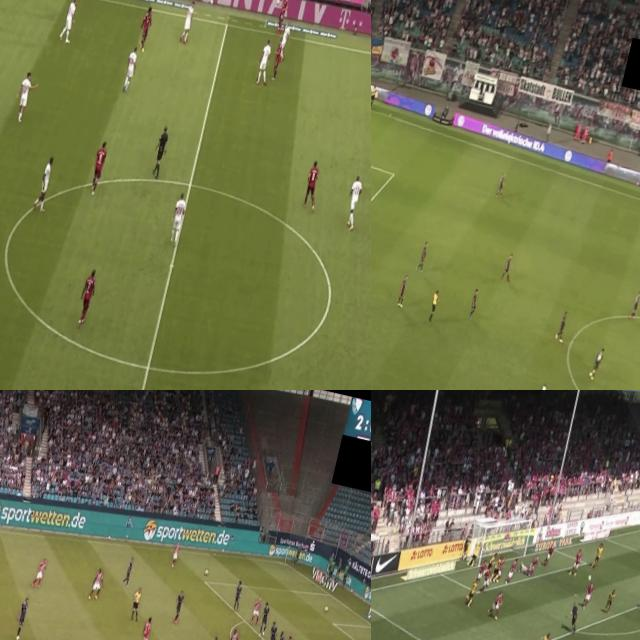ball: (584, 571, 592, 582), (274, 0, 282, 8), (588, 369, 594, 379), (324, 604, 329, 614), (204, 568, 209, 574)
player: (75, 262, 100, 324), (300, 153, 326, 210), (33, 154, 56, 213), (87, 138, 110, 196), (342, 171, 364, 231), (167, 190, 189, 248), (14, 70, 36, 121), (136, 5, 157, 54), (122, 42, 142, 92), (267, 32, 286, 83), (58, 0, 80, 42), (256, 34, 274, 82), (177, 0, 197, 41), (13, 598, 29, 640), (414, 237, 431, 274), (488, 590, 507, 623), (555, 308, 571, 347), (462, 576, 480, 610), (395, 270, 411, 308), (273, 0, 293, 29), (88, 568, 105, 602), (590, 344, 606, 376), (258, 599, 272, 635), (32, 556, 48, 587), (580, 580, 596, 610), (172, 590, 186, 622), (470, 538, 484, 570), (526, 552, 542, 580), (468, 284, 480, 318), (137, 616, 154, 640), (568, 547, 582, 576), (502, 249, 515, 280), (231, 580, 244, 611), (480, 563, 493, 594), (250, 596, 264, 624), (124, 556, 136, 586), (494, 552, 506, 582), (514, 560, 534, 578), (604, 586, 616, 616), (278, 20, 288, 54), (476, 556, 488, 584), (544, 539, 556, 566), (266, 619, 281, 640), (492, 554, 504, 580), (506, 556, 518, 582), (630, 289, 640, 318), (485, 549, 495, 577), (535, 625, 553, 640), (170, 540, 180, 566), (592, 540, 602, 566), (496, 174, 507, 197), (225, 627, 242, 640), (272, 628, 288, 640), (534, 379, 551, 390)
